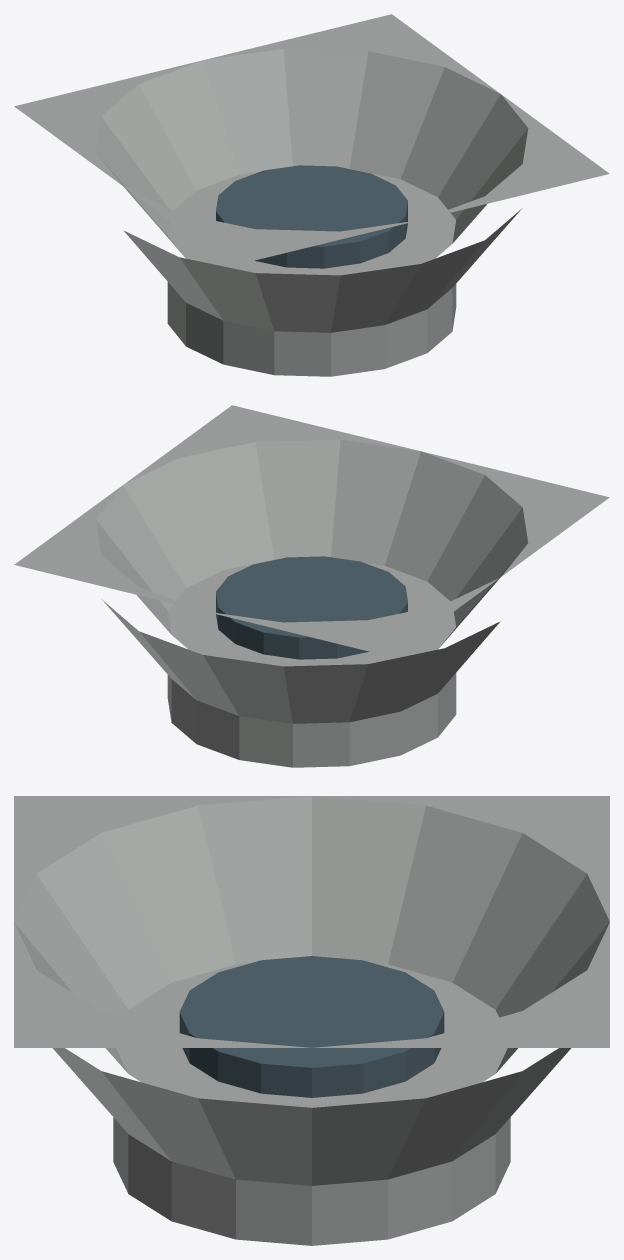
The picture shows the model from 3 angles, top to bottom: view 1: azimuth 30°, elevation 25°; view 2: azimuth 150°, elevation 25°; view 3: azimuth 270°, elevation 25°; orthographic projection. The views are drawn at different scales.
Parts seen in each view (by area): view 1: world; view 2: world; view 3: world.
Boxes of the visible parts, x1,y1,x2,y2 form: world: (14, 14, 609, 376); world: (14, 405, 609, 767); world: (14, 796, 609, 1245).
Bounding box in the file's own units: 0.0072 × 0.0032 × 0.0072.
